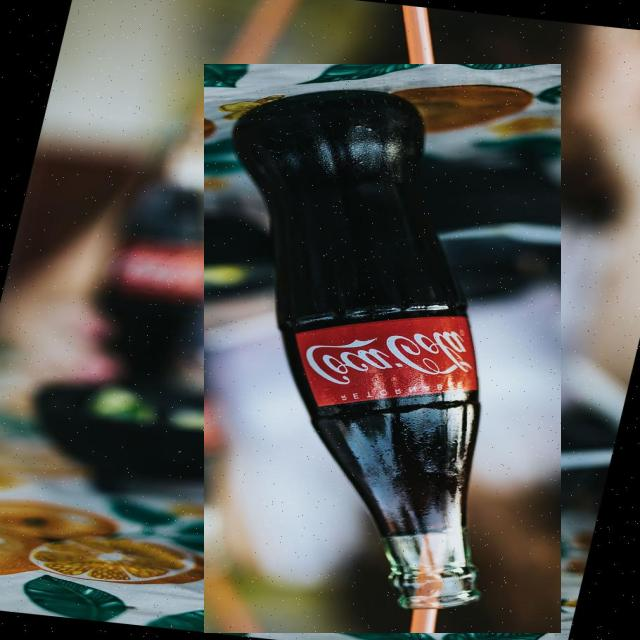coca-cola: (204, 64, 561, 633)
